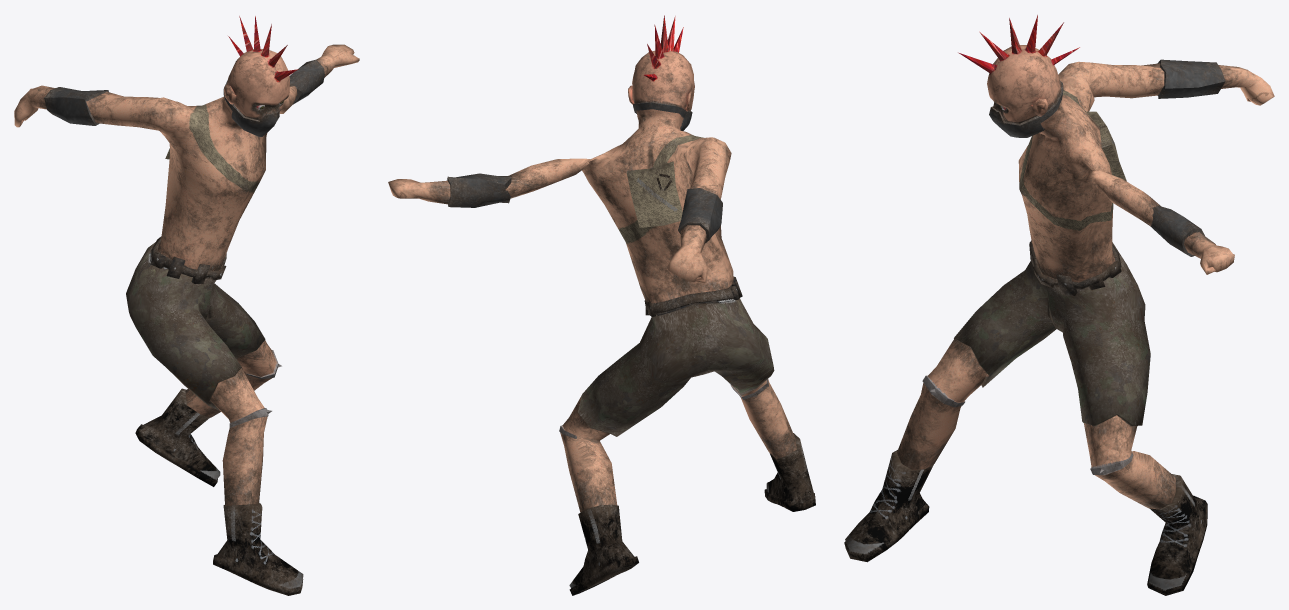
The model's file is Anim_arma_c_npc2.0028.obj.
3 renders of one model, left to right at view 1: azimuth 30°, elevation 25°; view 2: azimuth 150°, elevation 25°; view 3: azimuth 270°, elevation 25°, orthographic. The views are drawn at different scales.
Parts seen in each view (by area): view 1: polySurface1; view 2: polySurface1; view 3: polySurface1.
Part boxes in pixels (box(x1,y1,x2,y2)): polySurface1: box(14, 16, 359, 595); polySurface1: box(388, 15, 815, 595); polySurface1: box(844, 15, 1274, 595).
Size of the model in its own units: 6.06 by 9.15 by 6.23.
